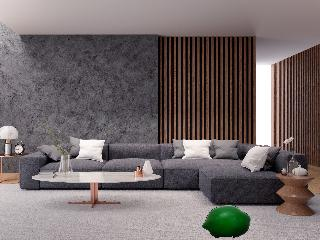lime: (200, 201, 254, 240)
